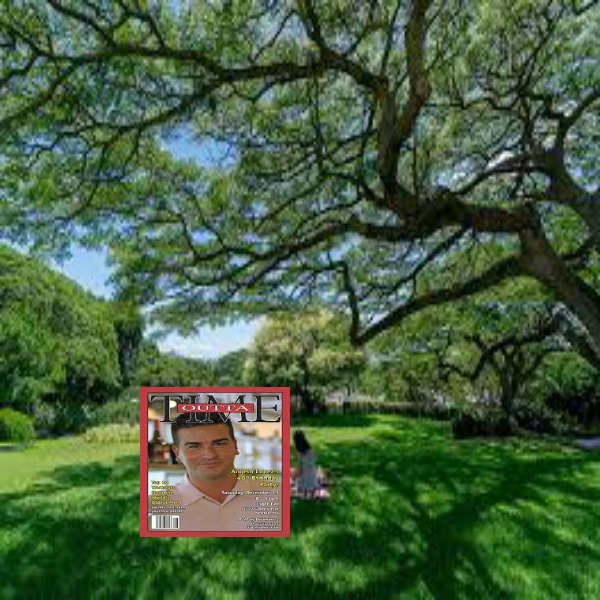time_cover: (137, 381, 291, 539)
